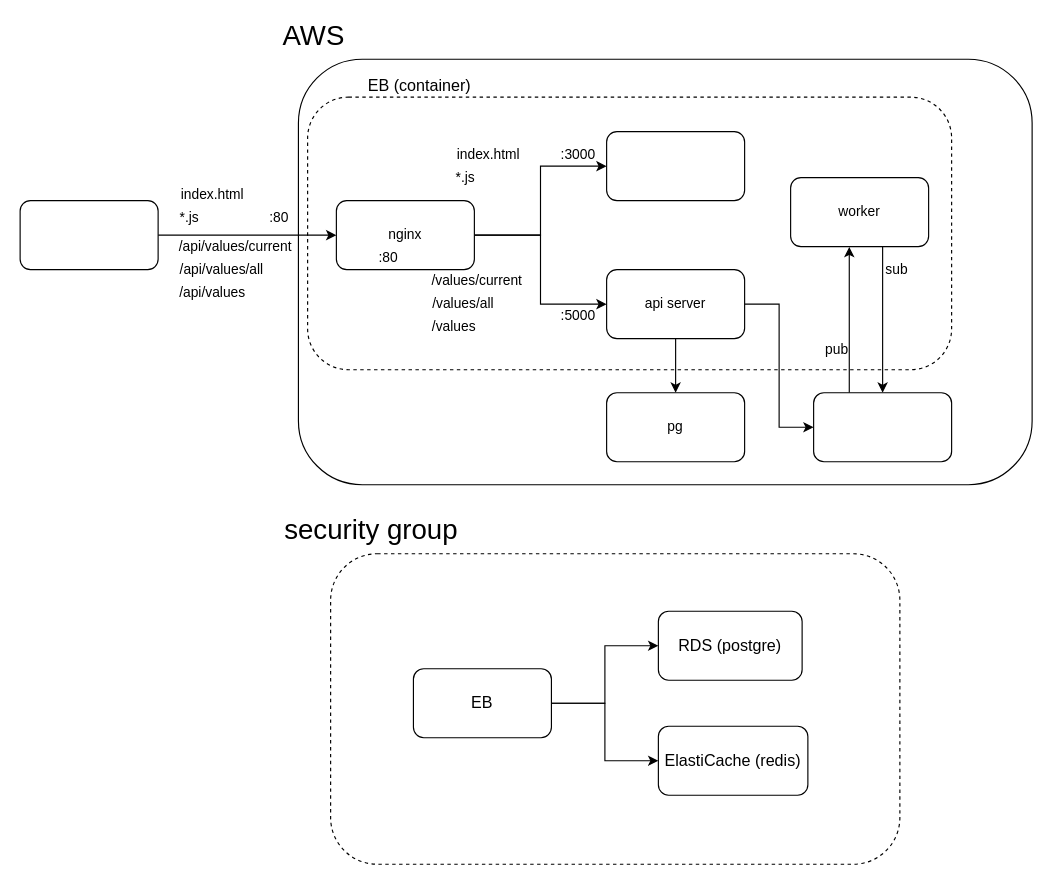
The diagram is 1052 pixels wide and 884 high, and some of its shapes have lost their labels. Here are the shapes that lost their labels. From the top down, the box of each, then its label:
(605, 131, 745, 201): nginx w/ react files
(19, 200, 158, 270): browser
(812, 392, 952, 462): redis
